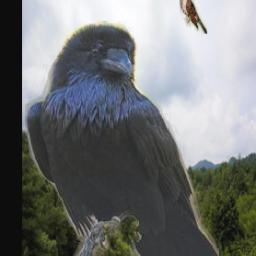Crow: (26, 21, 220, 256)
Cuckoo: (180, 0, 207, 35)
